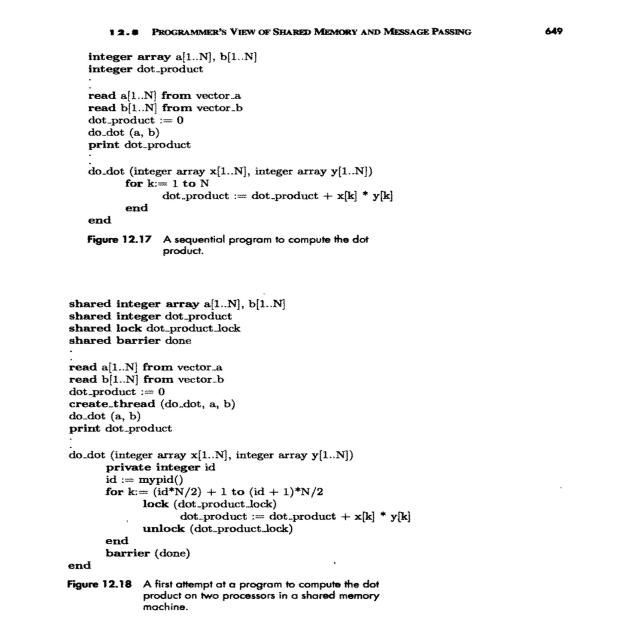diagram: (48, 44, 442, 640)
